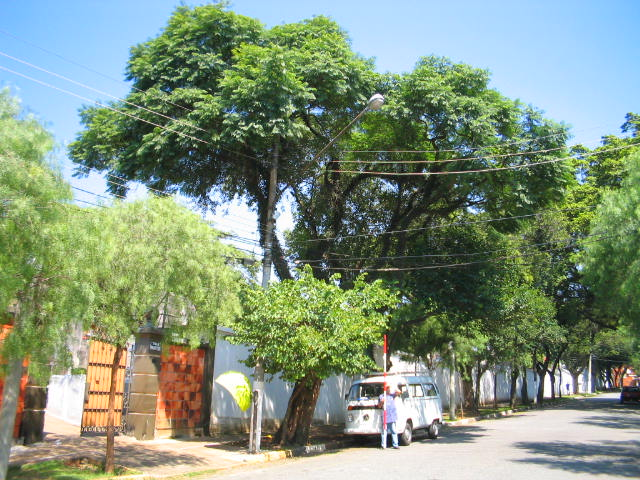crown: (72, 2, 580, 246)
stem: (267, 375, 329, 446)
stick: (377, 332, 389, 450)
tree: (69, 1, 580, 448)
